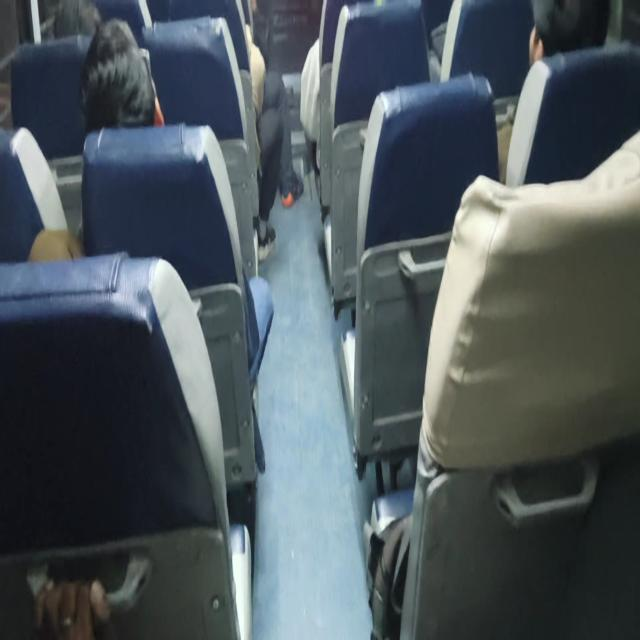person: (28, 17, 274, 471), (27, 16, 165, 262), (495, 0, 611, 184), (242, 21, 304, 261), (78, 16, 165, 130), (528, 0, 611, 67)
